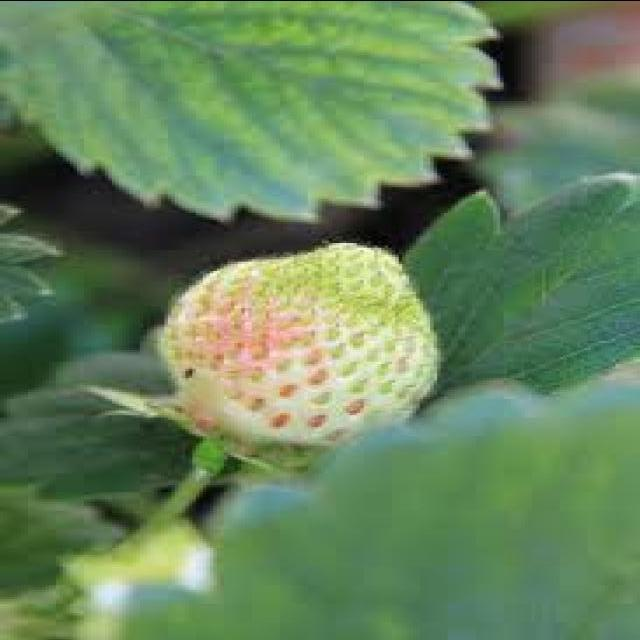strawberry: (162, 240, 440, 442)
